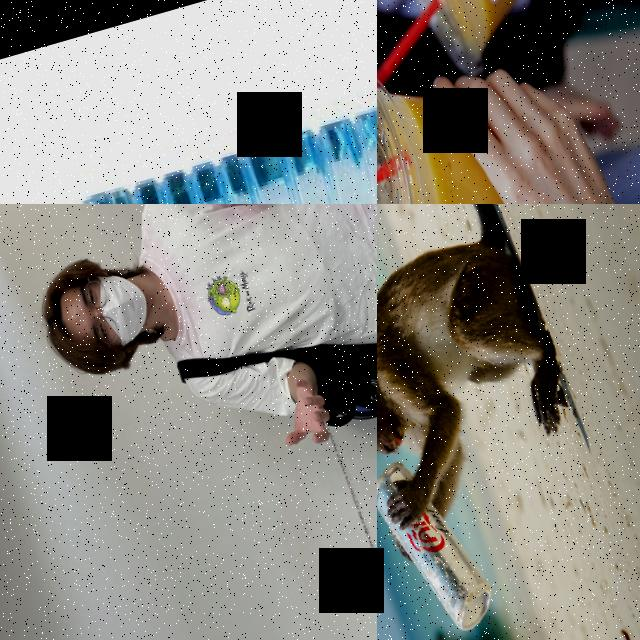bottle: (0, 66, 377, 204)
can: (377, 443, 501, 640)
cup: (377, 41, 530, 204), (379, 0, 586, 88)
